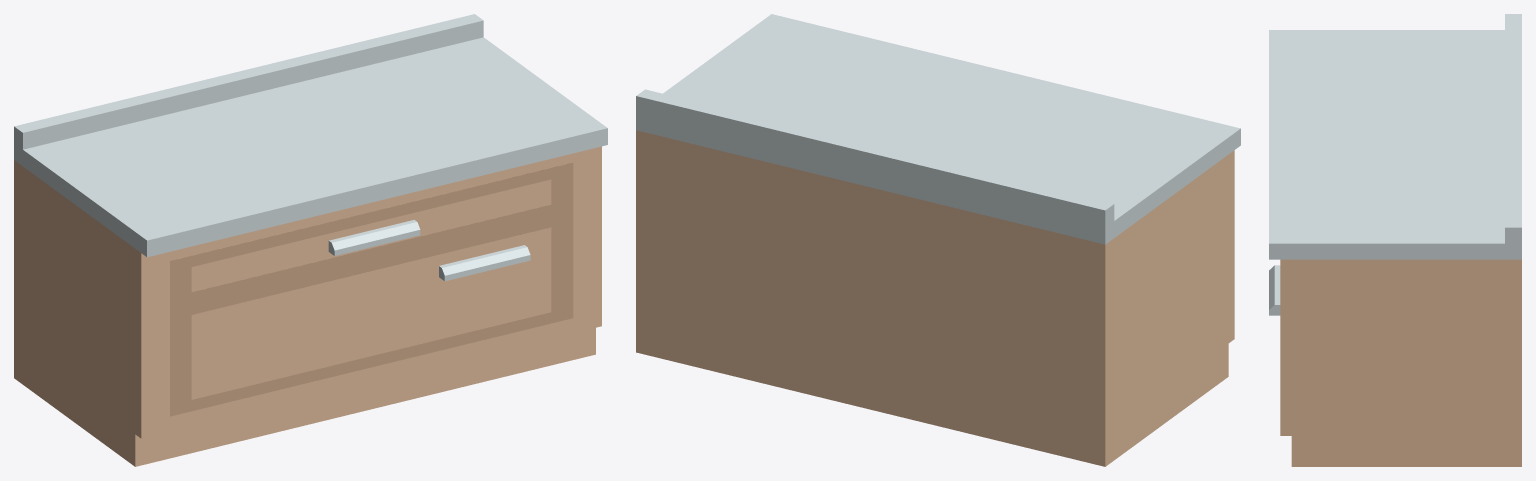
The model's file is kk-kitchenCabinetDrawer.glb.
The picture shows the model from 3 angles, left to right: view 1: azimuth 30°, elevation 25°; view 2: azimuth 150°, elevation 25°; view 3: azimuth 270°, elevation 25°; orthographic projection. The views are drawn at different scales.
Parts seen in each view (by area): view 1: kitchenCabinetDrawer(Clone), door; view 2: kitchenCabinetDrawer(Clone); view 3: kitchenCabinetDrawer(Clone).
Boxes of the visible parts, x1=… form: kitchenCabinetDrawer(Clone): x1=14, y1=14, x2=607, y2=466; door: x1=170, y1=163, x2=573, y2=416; kitchenCabinetDrawer(Clone): x1=636, y1=14, x2=1240, y2=466; kitchenCabinetDrawer(Clone): x1=1269, y1=14, x2=1521, y2=466.
Size of the model in its own units: 1 by 0.5223 by 0.5001.
